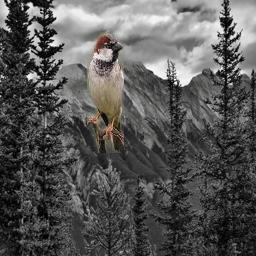Sparrow: (88, 33, 125, 154)
